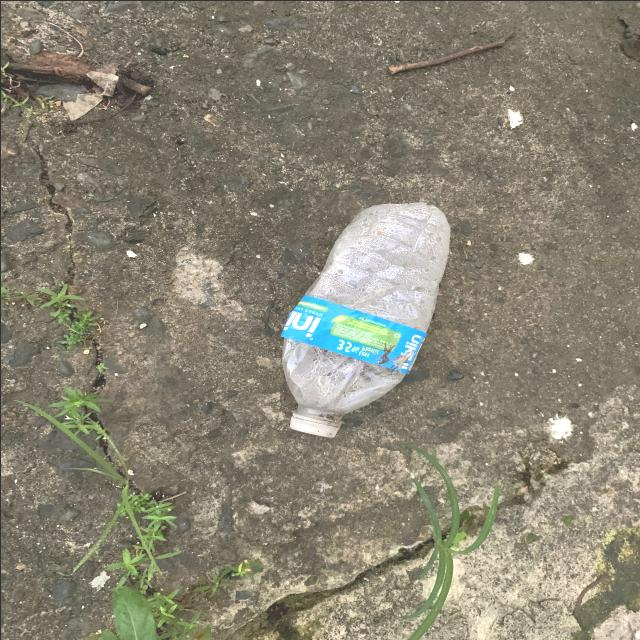Clear plastic bottle: (281, 201, 449, 437)
Plastic bottle cap: (289, 415, 339, 437)
